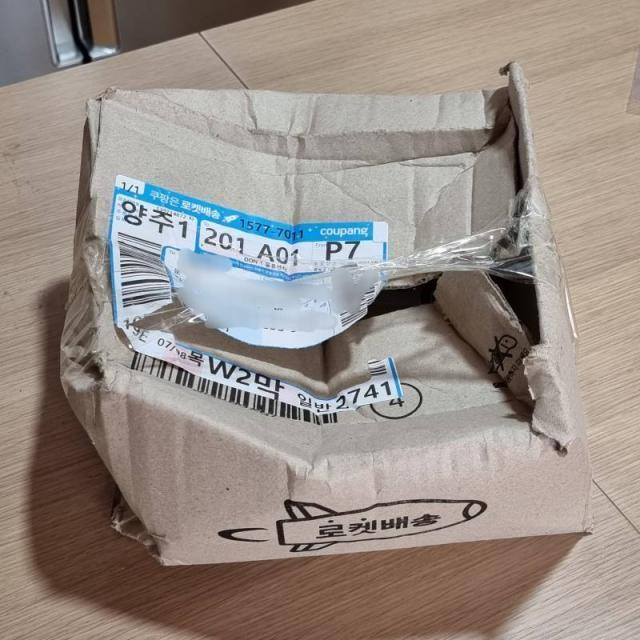damaged: (366, 274, 552, 370)
